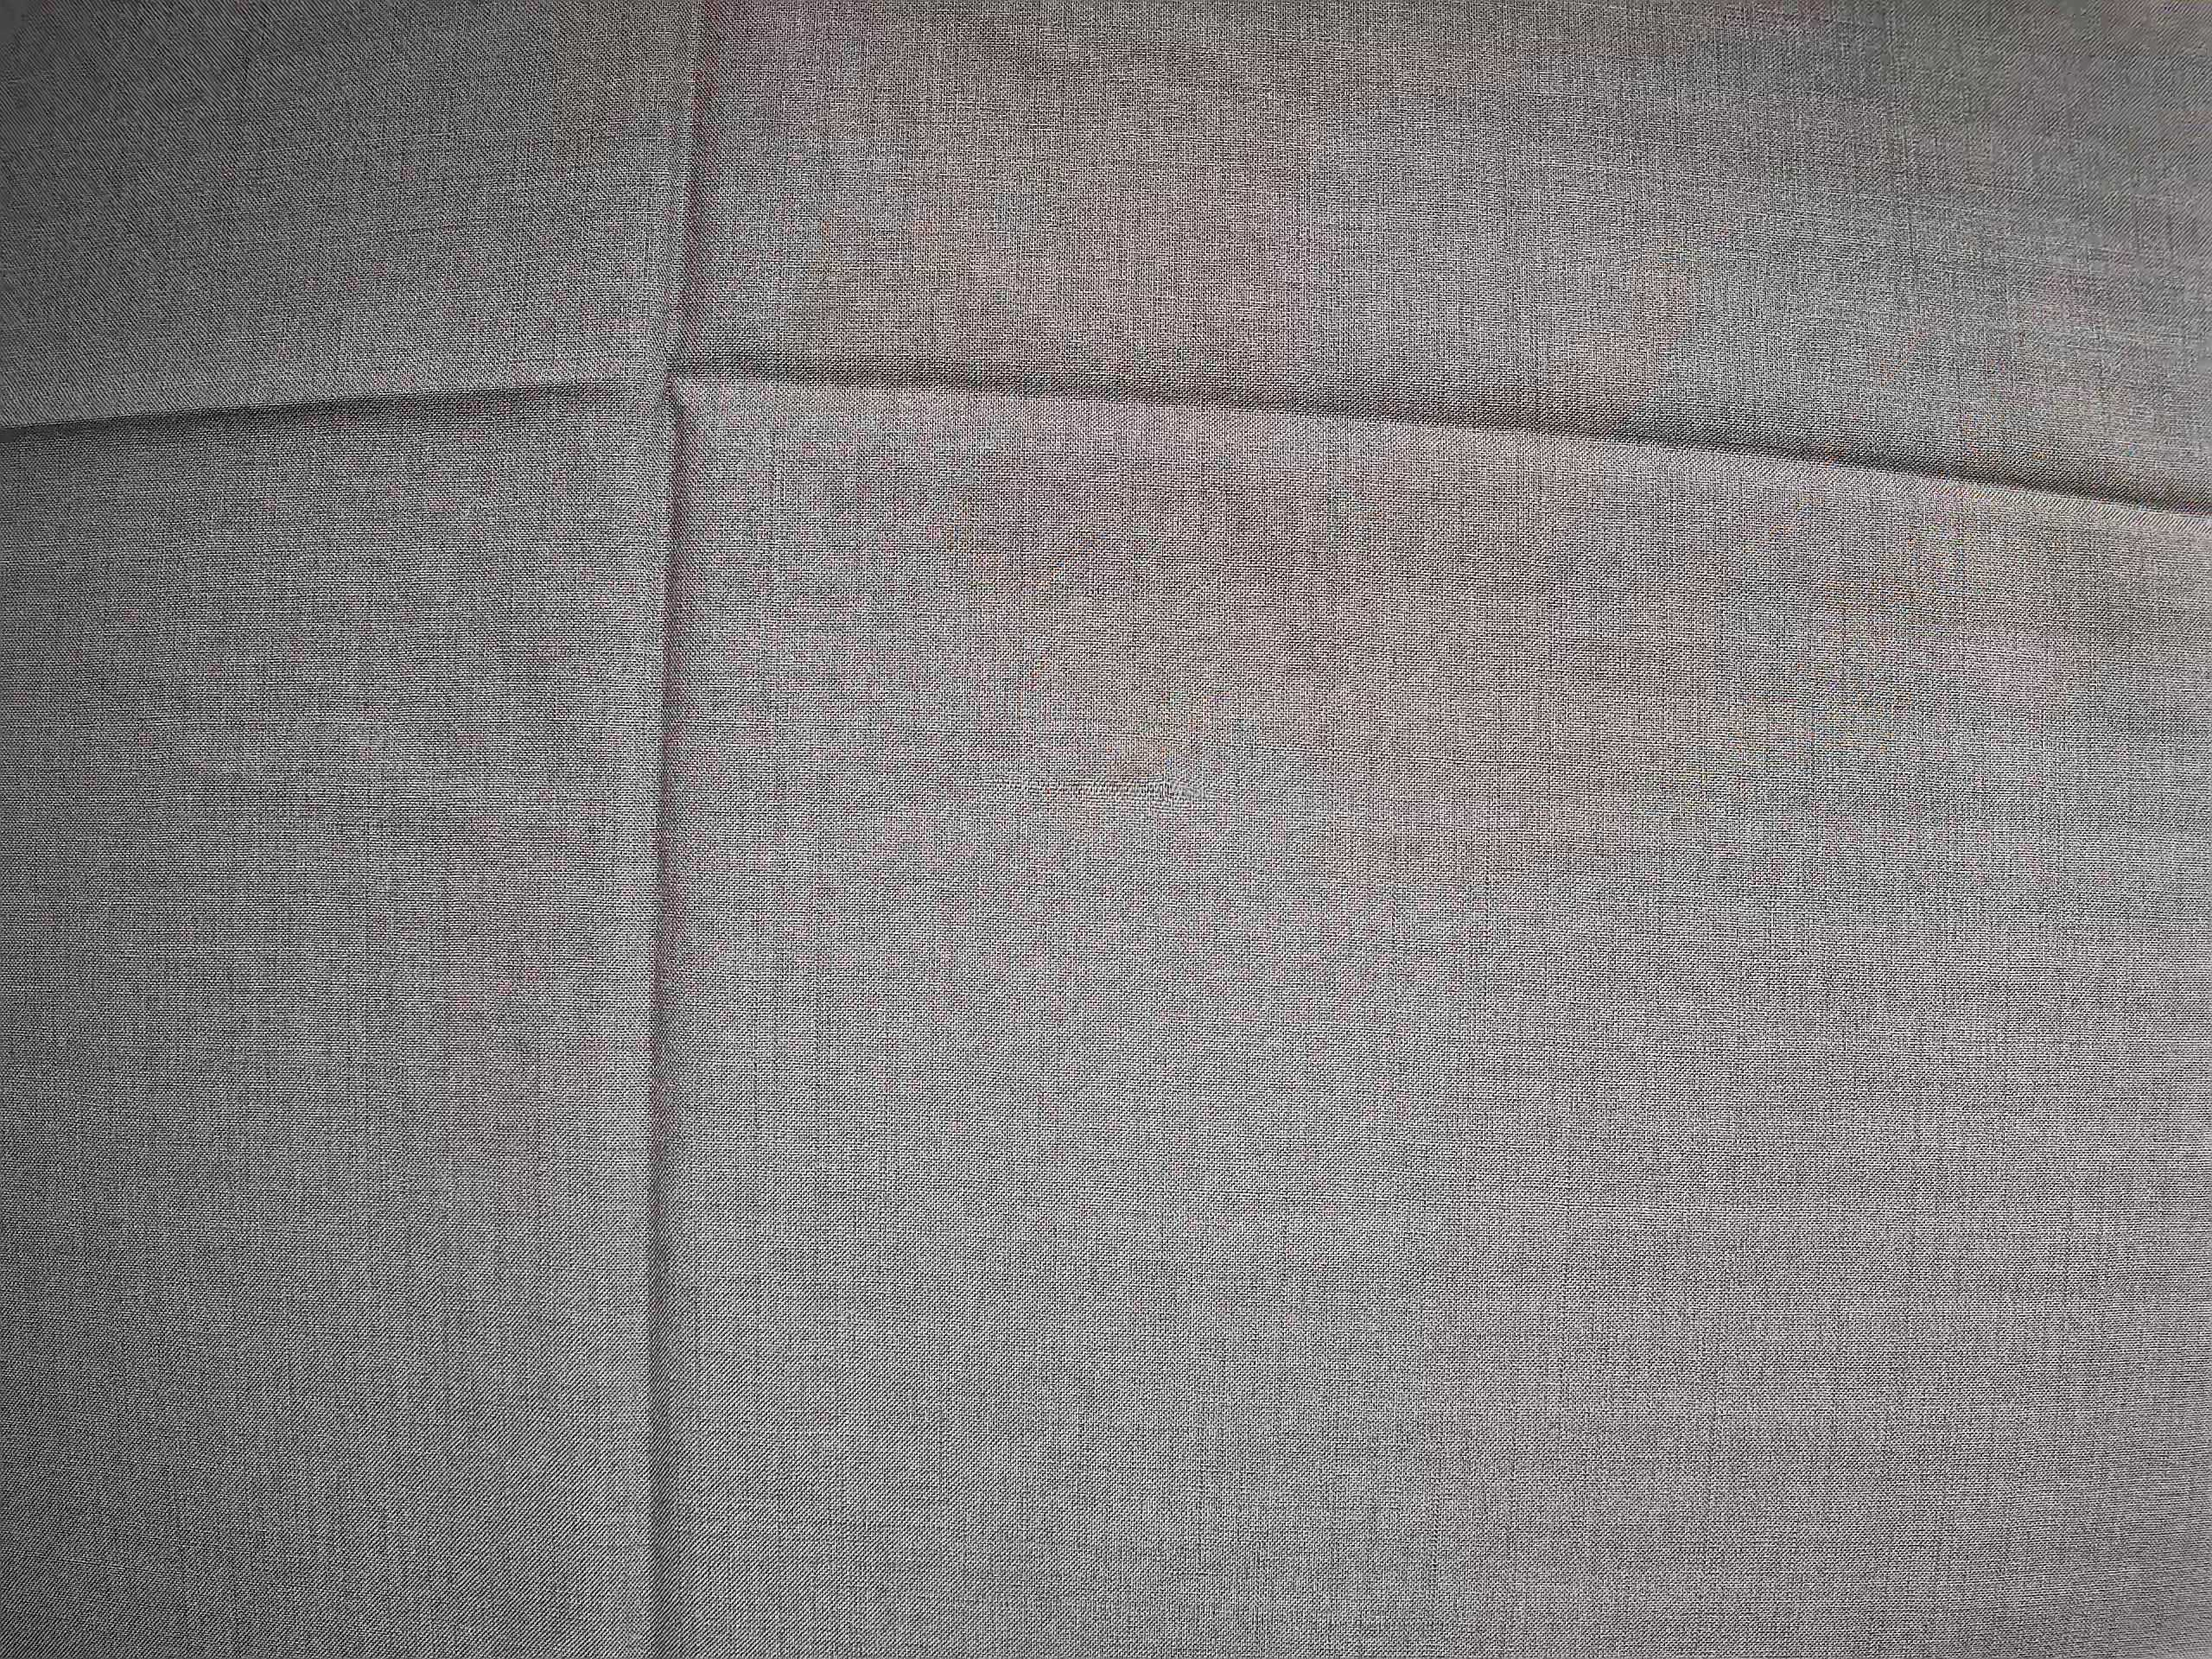jumps: (1007, 753, 1238, 826)
